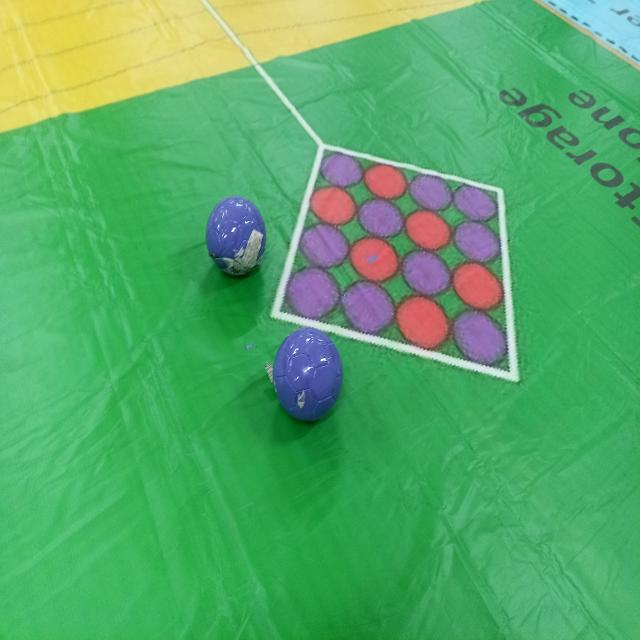purple_ball: (194, 174, 276, 283), (273, 316, 344, 431)
